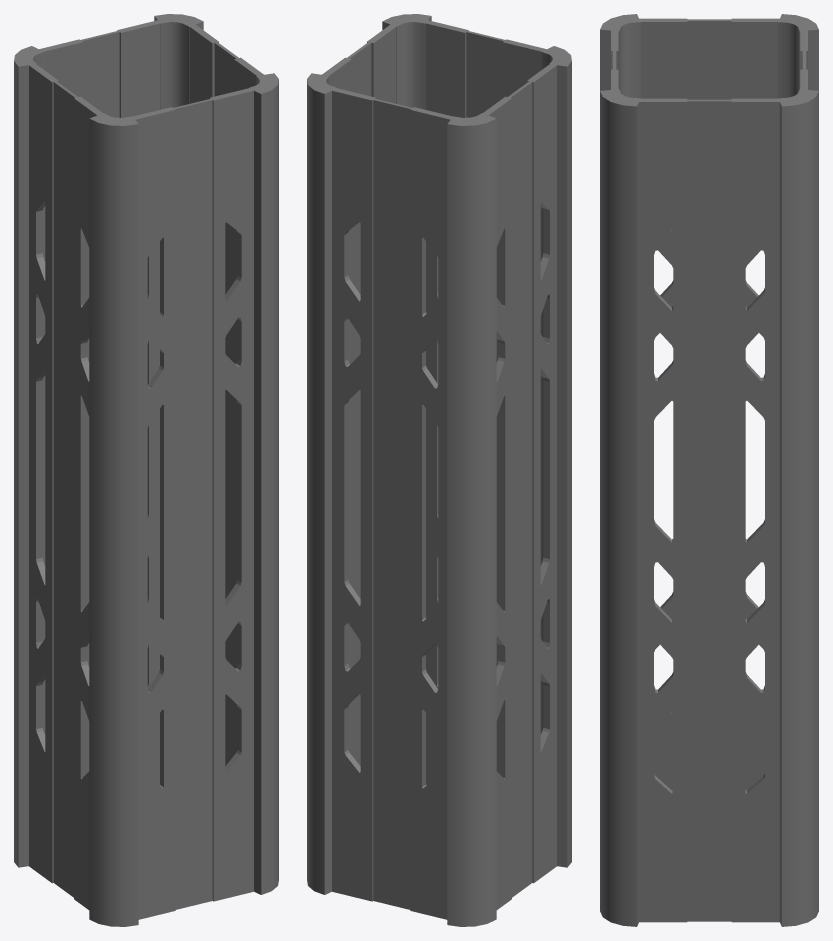
Rendered from q-scifi-mod-column-hollow.glb.
The picture shows the model from 3 angles, left to right: view 1: azimuth 30°, elevation 25°; view 2: azimuth 150°, elevation 25°; view 3: azimuth 270°, elevation 25°; orthographic projection. The views are drawn at different scales.
Visible parts, largest first — view 1: Column_Hollow; view 2: Column_Hollow; view 3: Column_Hollow.
Boxes of the visible parts, x1,y1,x2,y2 form: Column_Hollow: (14, 14, 278, 926); Column_Hollow: (307, 14, 571, 926); Column_Hollow: (600, 14, 818, 926).
Bounding box in the file's own units: 1.21 × 5 × 1.21.
2 materials, 2 textured.
